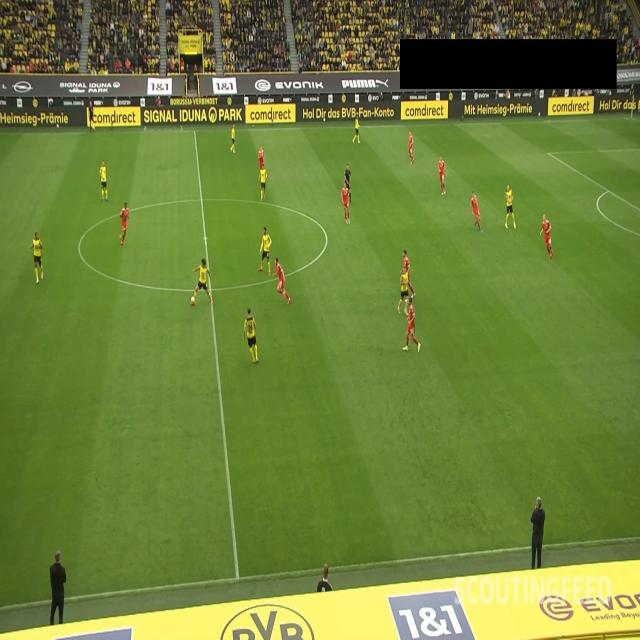ball: (190, 296, 195, 305)
